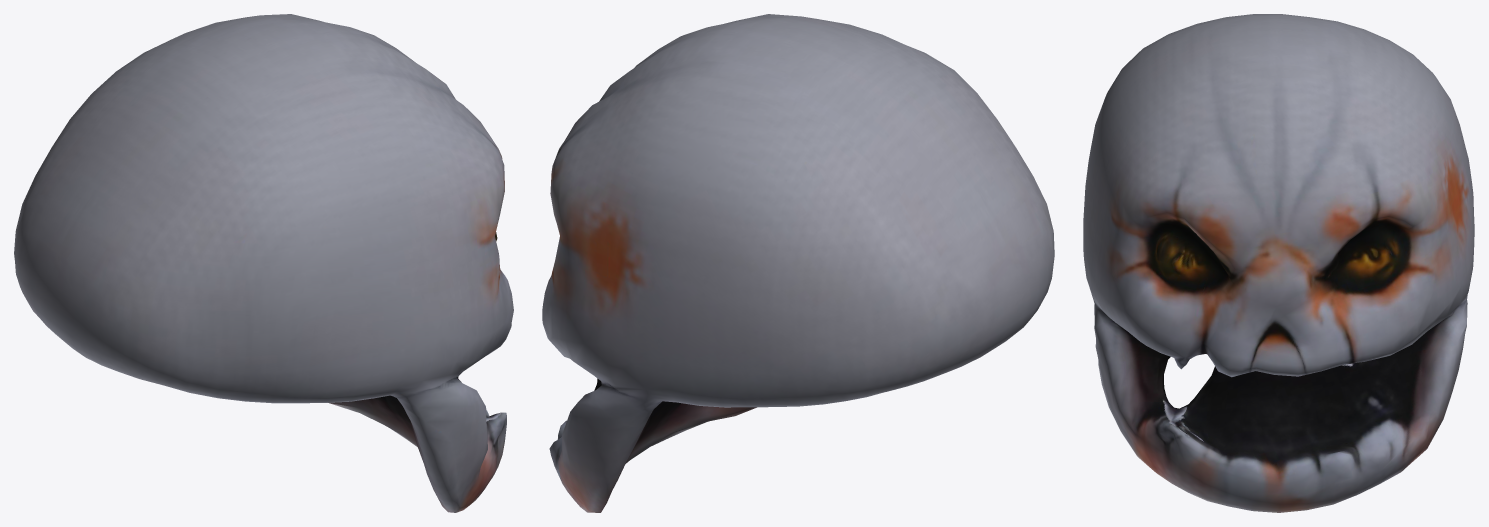
Rendered from dfd9461eeeba_8d56487d68ed_Dark_face_smoke_hor.glb.
3 renders of one model, left to right at view 1: azimuth 30°, elevation 25°; view 2: azimuth 150°, elevation 25°; view 3: azimuth 270°, elevation 25°, orthographic. The views are drawn at different scales.
Visible parts, largest first — view 1: mesh; view 2: mesh; view 3: mesh.
Boxes of the visible parts, bbox=[...] form: mesh: bbox=[14, 14, 513, 512]; mesh: bbox=[542, 14, 1054, 512]; mesh: bbox=[1083, 14, 1474, 512].
Size of the model in its own units: 0.9721 by 0.9984 by 0.8699.
1 material, 1 textured.
